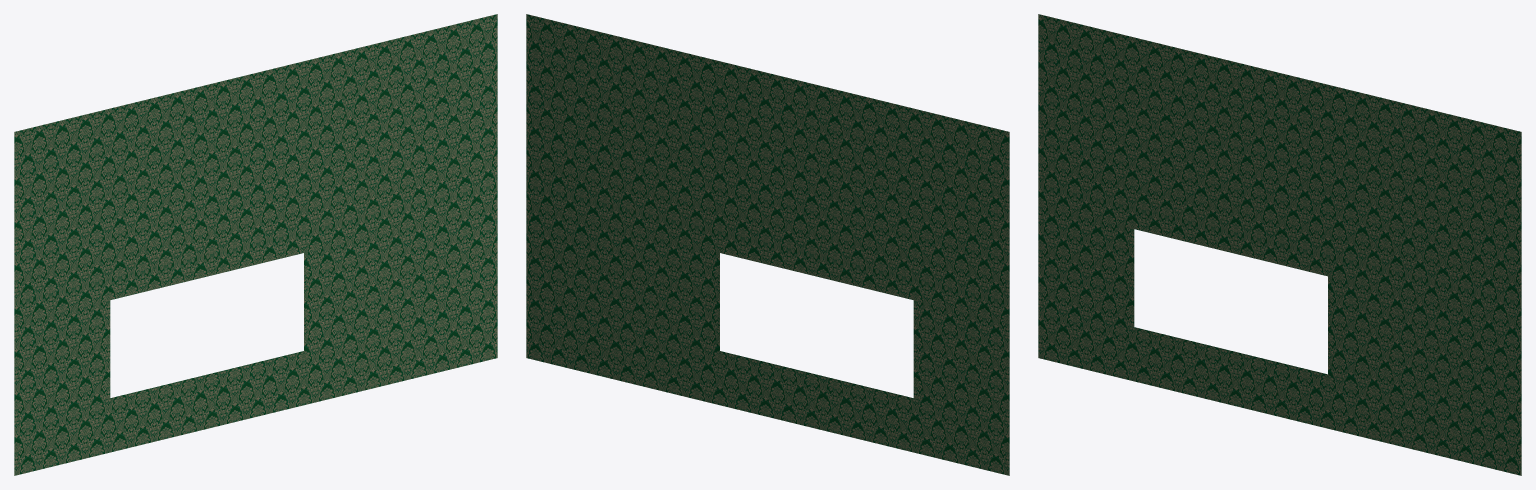
File: ParedeComBuraco.fbx
3 renders of one model, left to right at view 1: azimuth 30°, elevation 25°; view 2: azimuth 150°, elevation 25°; view 3: azimuth 330°, elevation 25°, orthographic.
Parts seen in each view (by area): view 1: ParedesEscritorio.001; view 2: ParedesEscritorio.001; view 3: ParedesEscritorio.001.
Boxes of the visible parts, x1,y1,x2,y2 form: ParedesEscritorio.001: [14, 14, 497, 475]; ParedesEscritorio.001: [526, 14, 1009, 475]; ParedesEscritorio.001: [1038, 14, 1521, 475].
Bounding box in the file's own units: 6 × 4.08 × 1.62e-06.
